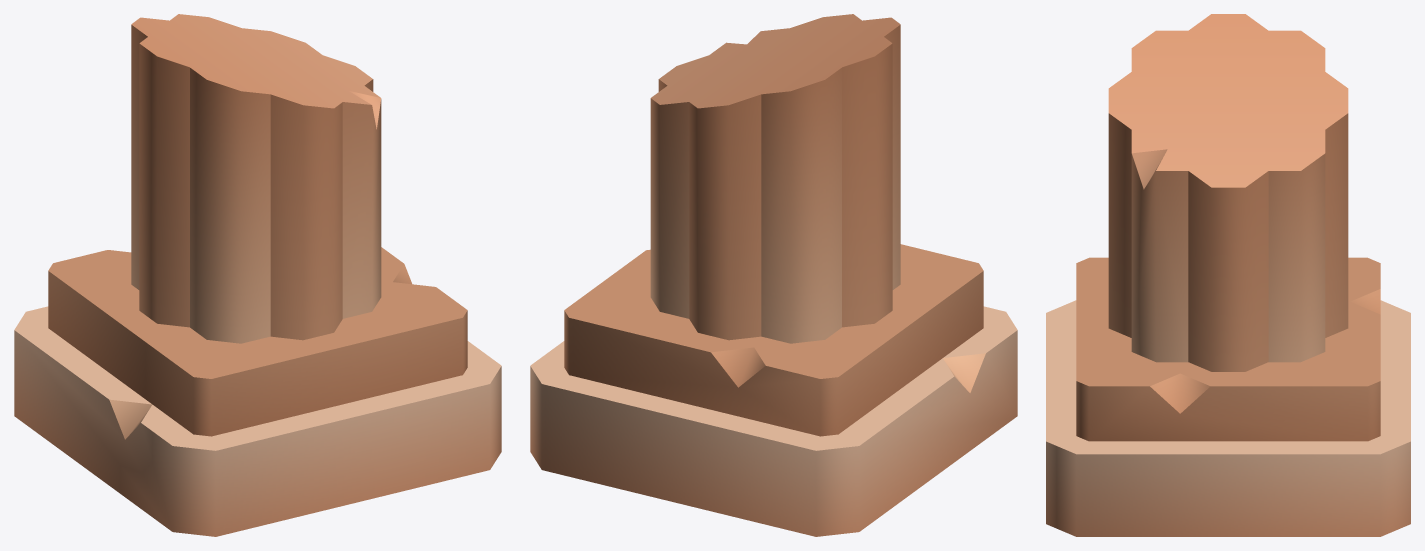
Rendered from arena_column_damaged.glb.
The picture shows the model from 3 angles, left to right: view 1: azimuth 30°, elevation 25°; view 2: azimuth 150°, elevation 25°; view 3: azimuth 270°, elevation 25°; orthographic projection. The views are drawn at different scales.
Visible parts, largest first — view 1: column-damaged; view 2: column-damaged; view 3: column-damaged.
Boxes of the visible parts, x1,y1,x2,y2 form: column-damaged: (14, 14, 501, 536); column-damaged: (530, 14, 1017, 536); column-damaged: (1046, 14, 1410, 536).
Bounding box in the file's own units: 0.6 × 0.7157 × 0.6.
Materials: 1 (1 with a texture image).
